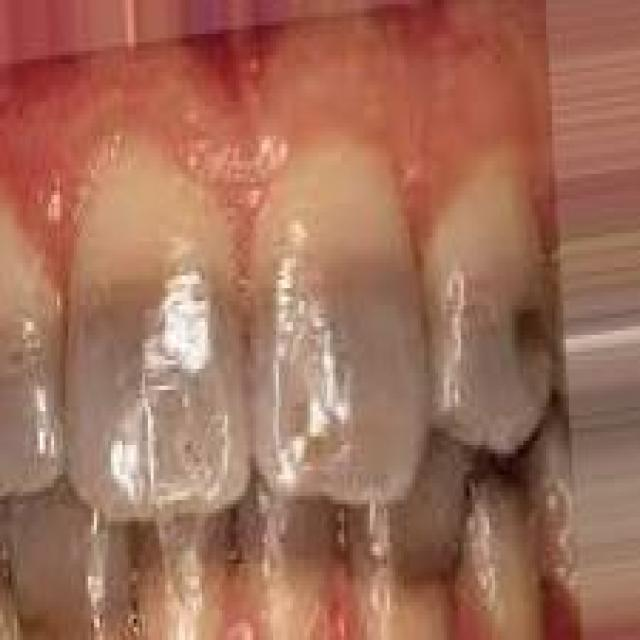caries: (500, 270, 558, 378)
